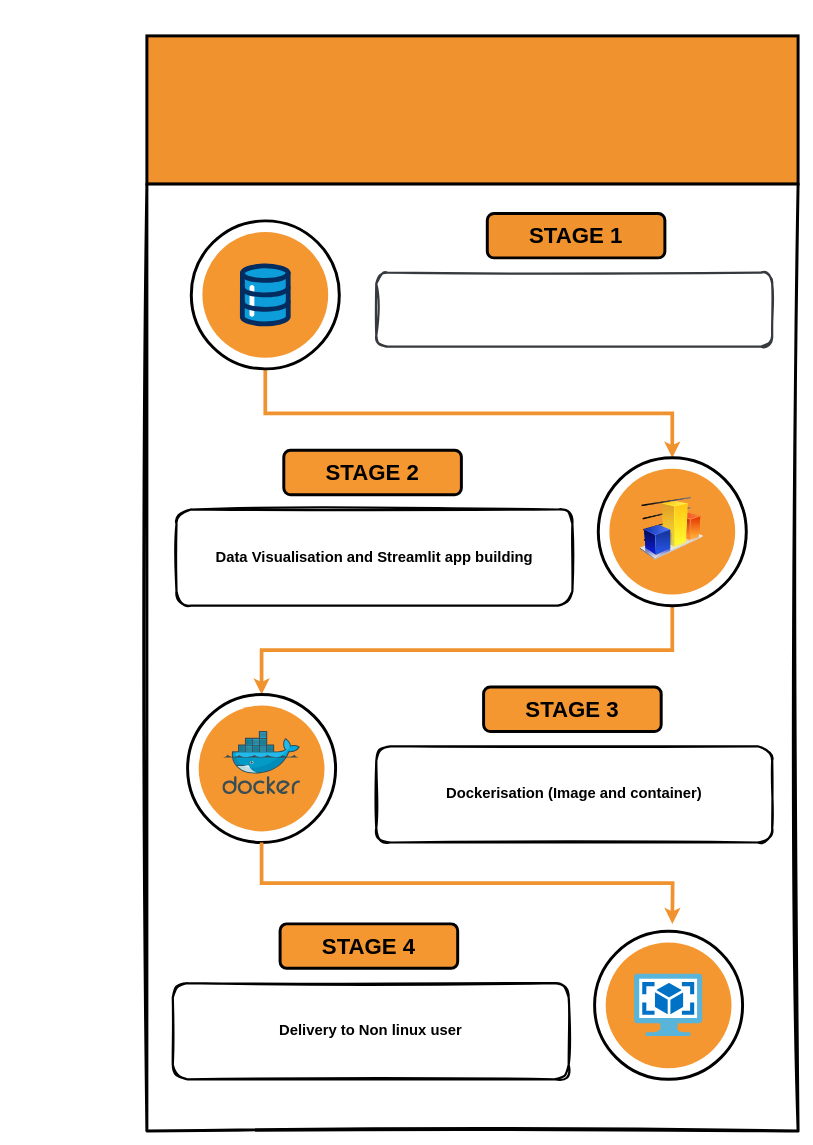
Some shapes in this 813 by 1145 pixel diagram are drawn without their labels. The shapes that lost their labels are listed below. From the top down, each one's centre as x and y in pixels, then its label:
[472,109]: Streamlit & Docker
[574,309]: Data Extraction and Preprocesing
